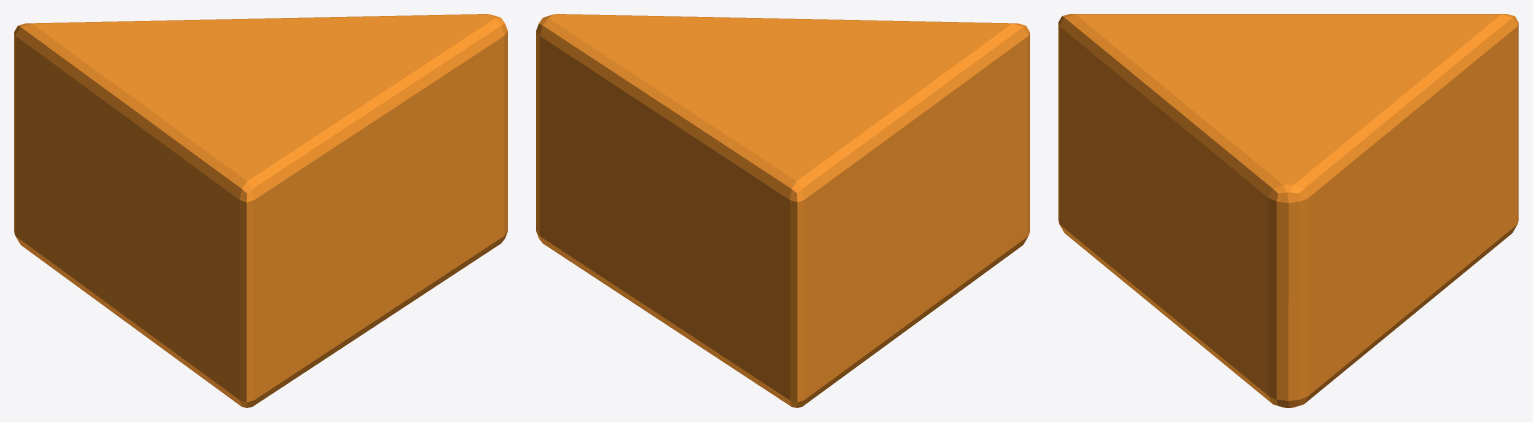
File: wall_triangle.fbx
3 renders of one model, left to right at view 1: azimuth 30°, elevation 25°; view 2: azimuth 150°, elevation 25°; view 3: azimuth 270°, elevation 25°, orthographic.
Parts seen in each view (by area): view 1: wall_triangle; view 2: wall_triangle; view 3: wall_triangle.
Part boxes in pixels (bbox=[...]): wall_triangle: bbox=[14, 14, 507, 407]; wall_triangle: bbox=[536, 14, 1029, 407]; wall_triangle: bbox=[1058, 14, 1518, 407].
Size of the model in its own units: 350 by 200 by 374.
